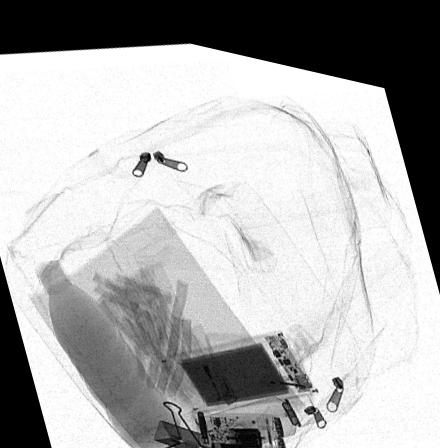Lighter: (182, 314, 238, 397)
Powerbank: (174, 316, 316, 402)
Sprayer: (195, 378, 322, 445)
